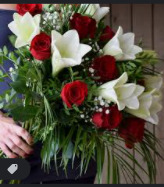RedRose: (69, 11, 96, 40), (95, 103, 123, 130), (123, 117, 146, 148), (61, 80, 87, 106), (29, 31, 53, 59), (93, 59, 118, 78), (14, 4, 45, 16), (100, 24, 113, 44)
